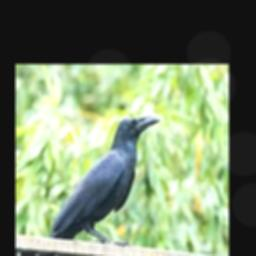Crow: (39, 115, 160, 256)
